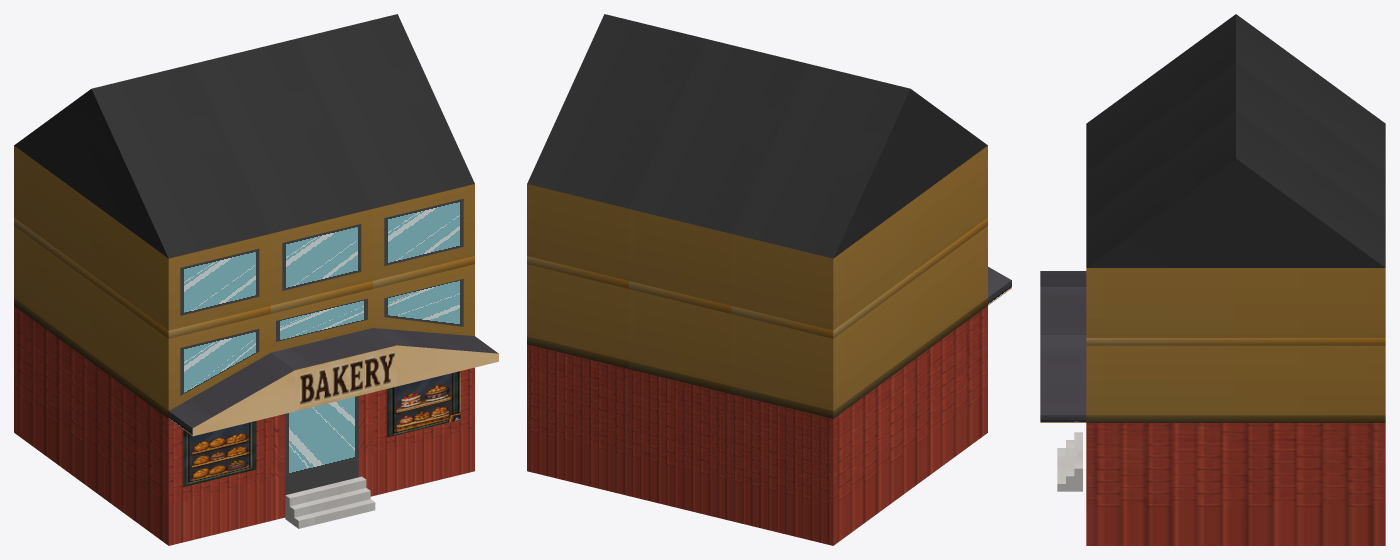
File: bakery.glb
3 renders of one model, left to right at view 1: azimuth 30°, elevation 25°; view 2: azimuth 150°, elevation 25°; view 3: azimuth 270°, elevation 25°, orthographic. The views are drawn at different scales.
Parts seen in each view (by area): view 1: MC Bakery Apartment; view 2: MC Bakery Apartment; view 3: MC Bakery Apartment.
Boxes of the visible parts, x1,y1,x2,y2 form: MC Bakery Apartment: (14,14,498,545); MC Bakery Apartment: (527,14,1011,545); MC Bakery Apartment: (1040,14,1385,545).
Bounding box in the file's own units: 8 × 10 × 8.08.
Materials: 4 (4 with a texture image).
